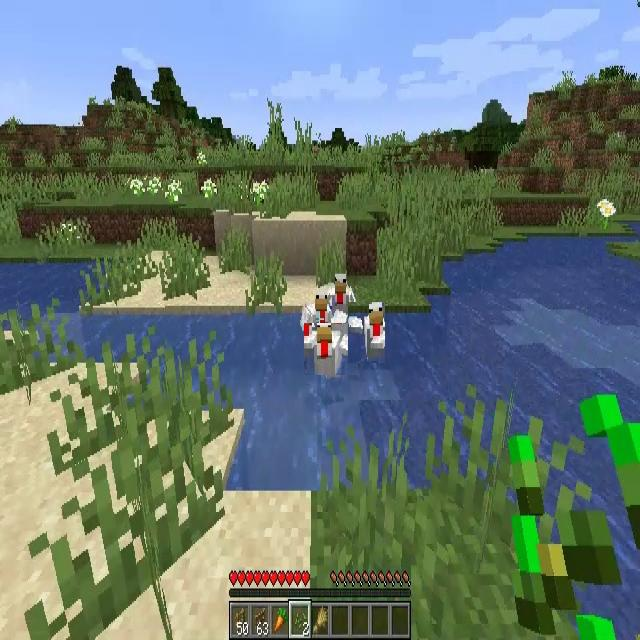duck: (304, 323, 358, 375), (348, 302, 385, 363), (303, 292, 331, 335), (331, 275, 355, 312)
flower: (597, 200, 616, 230), (163, 180, 182, 203), (202, 178, 218, 201), (253, 181, 270, 202), (130, 178, 146, 198), (147, 178, 161, 198)
